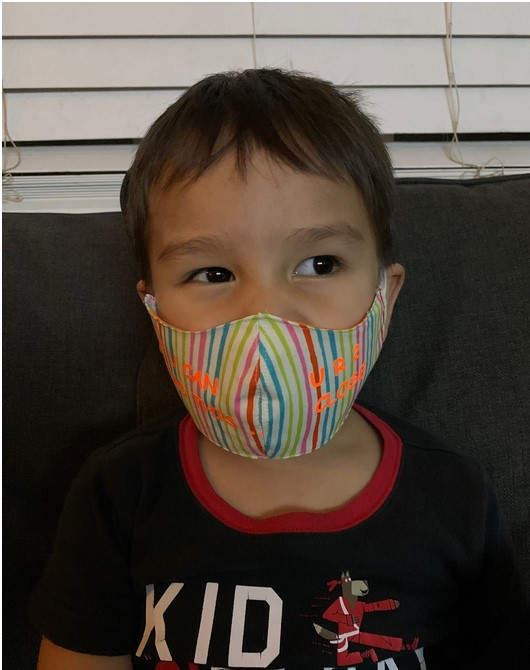face_with_mask: (126, 69, 409, 463)
